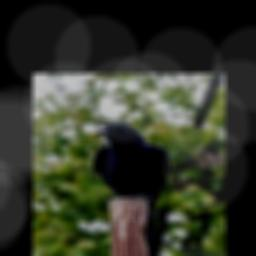Crow: (92, 121, 171, 245)
